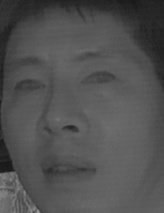eye: (79, 66, 117, 91), (12, 76, 47, 94)
mouth: (36, 152, 99, 186)
